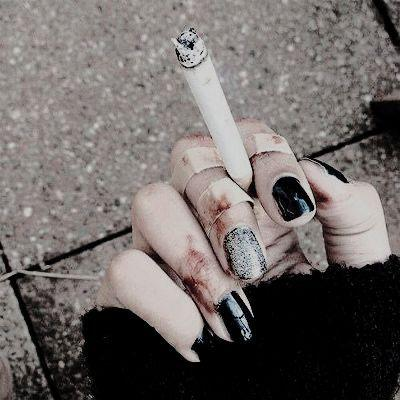cigarette: (170, 26, 253, 192)
